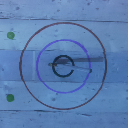Axe Tip: (53, 62, 65, 64)
